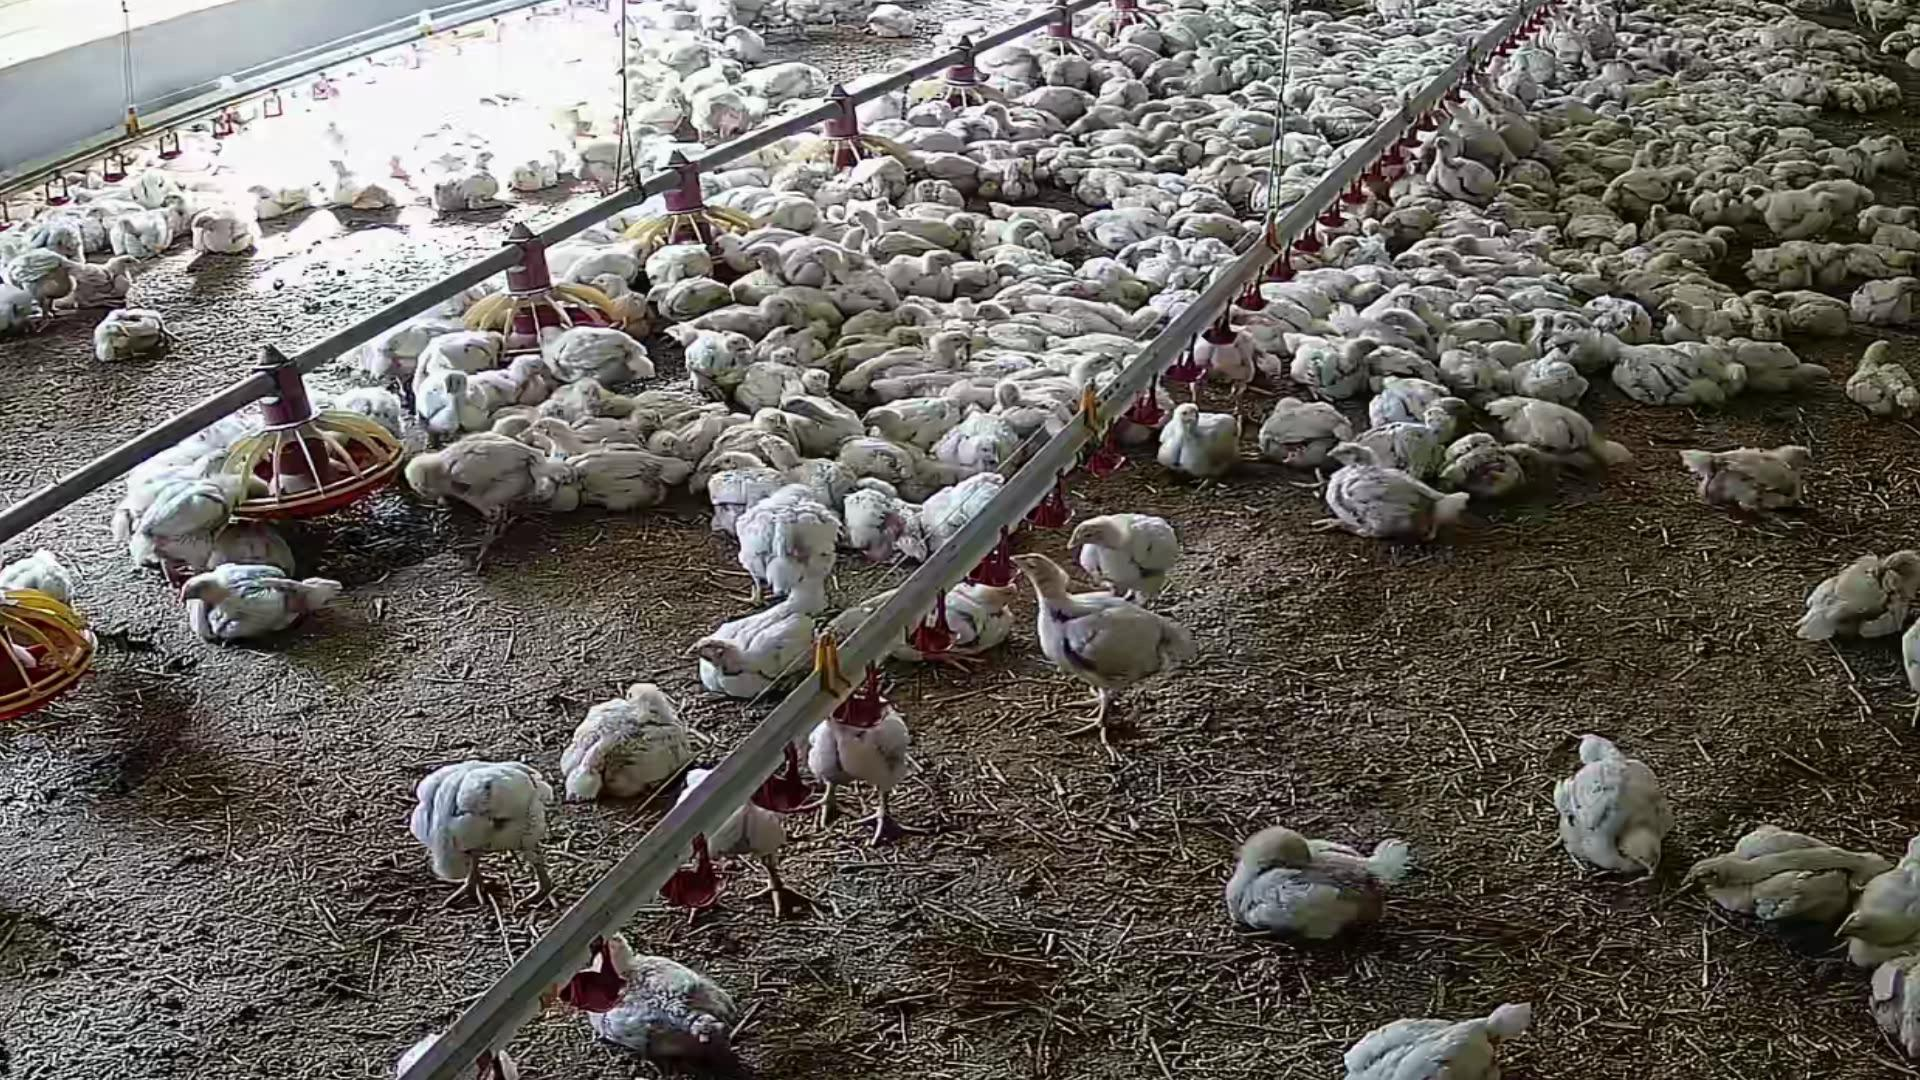poussin: (1001, 539, 1180, 767), (571, 910, 735, 1080), (1229, 823, 1415, 952), (678, 762, 811, 942), (1680, 825, 1886, 934), (798, 666, 928, 836), (411, 761, 555, 911), (1307, 442, 1469, 539), (840, 578, 1026, 662), (562, 682, 695, 799), (1556, 735, 1667, 874), (1340, 1000, 1531, 1080), (742, 480, 841, 624), (135, 479, 261, 585), (1490, 393, 1633, 484), (1796, 553, 1920, 642), (119, 456, 228, 556), (407, 439, 541, 521), (688, 615, 829, 691), (1844, 833, 1920, 968), (1062, 513, 1185, 595), (1683, 442, 1811, 517), (173, 582, 334, 641), (1597, 335, 1730, 402), (392, 1013, 522, 1080), (928, 469, 1019, 566), (1146, 396, 1240, 483), (534, 323, 665, 385), (1255, 402, 1356, 477), (841, 331, 975, 386), (1706, 335, 1825, 397), (753, 434, 853, 506), (566, 455, 695, 509), (0, 244, 71, 339), (314, 384, 402, 459), (1180, 324, 1266, 400), (211, 518, 295, 593), (1842, 338, 1920, 417), (1869, 945, 1920, 1060), (847, 476, 916, 560), (1352, 410, 1452, 468), (1441, 427, 1524, 497), (699, 406, 783, 475), (360, 314, 446, 381), (0, 543, 69, 626), (1742, 182, 1836, 241), (88, 306, 178, 367), (1288, 338, 1378, 397), (810, 247, 893, 309), (713, 451, 770, 541), (1443, 96, 1505, 178), (1429, 138, 1498, 211), (943, 410, 1018, 471), (858, 397, 963, 440), (732, 368, 840, 409), (90, 207, 177, 257), (1379, 369, 1455, 426), (1469, 83, 1528, 154), (1244, 291, 1332, 338), (1433, 339, 1510, 392), (464, 353, 542, 404), (757, 285, 845, 328), (421, 373, 488, 430), (327, 160, 396, 215), (1602, 167, 1695, 208), (844, 436, 924, 483), (1251, 280, 1344, 319), (691, 302, 806, 334), (1770, 289, 1846, 336), (650, 278, 732, 322), (851, 210, 931, 253), (534, 418, 640, 451), (666, 323, 760, 360), (421, 331, 508, 371), (1655, 295, 1734, 339), (1278, 277, 1400, 305), (894, 244, 952, 302), (71, 252, 137, 302), (692, 334, 746, 393), (1851, 277, 1920, 323), (117, 204, 174, 260), (1659, 223, 1735, 264), (589, 273, 647, 326), (1511, 360, 1588, 400), (1080, 96, 1174, 128), (1559, 193, 1622, 239), (1246, 167, 1311, 212), (735, 247, 786, 302), (1742, 248, 1813, 287), (1221, 314, 1299, 349), (487, 401, 567, 435), (560, 249, 650, 280), (886, 212, 975, 243), (1547, 326, 1619, 363), (1891, 615, 1920, 707), (750, 61, 816, 100), (1784, 240, 1844, 284), (1638, 204, 1702, 244), (583, 390, 688, 414), (786, 396, 872, 425), (191, 214, 252, 255), (1394, 290, 1460, 327), (629, 404, 731, 427), (833, 327, 920, 355), (1112, 142, 1183, 175), (1095, 127, 1188, 152), (868, 1, 923, 44), (645, 433, 725, 462), (953, 253, 1010, 294), (690, 91, 737, 140), (996, 210, 1079, 237), (1841, 245, 1920, 274), (1022, 87, 1091, 120), (976, 104, 1034, 142), (463, 149, 500, 208), (247, 179, 310, 214), (654, 247, 719, 280), (753, 199, 815, 233), (0, 278, 32, 344), (1141, 237, 1183, 286), (1134, 54, 1199, 86), (1567, 145, 1634, 175), (1590, 295, 1643, 334), (1316, 232, 1364, 274), (574, 153, 615, 202), (1477, 73, 1527, 112), (843, 306, 928, 328), (164, 194, 224, 225), (1858, 203, 1919, 235), (1436, 316, 1511, 342), (634, 96, 682, 136), (509, 158, 554, 199), (709, 236, 764, 269), (1109, 41, 1163, 74), (729, 25, 774, 65), (1685, 186, 1730, 225), (992, 282, 1087, 301), (545, 389, 615, 414), (1265, 138, 1331, 165), (898, 129, 967, 154), (988, 407, 1056, 433), (778, 0, 814, 47), (1548, 18, 1584, 66), (1178, 216, 1247, 240), (1182, 190, 1236, 219), (989, 326, 1055, 349), (986, 222, 1039, 251), (684, 65, 725, 102), (1120, 235, 1167, 266), (1077, 210, 1156, 228), (1499, 273, 1568, 294), (988, 47, 1035, 78), (1046, 339, 1145, 353), (1505, 290, 1577, 310), (1051, 55, 1089, 92), (1021, 129, 1073, 156), (1766, 105, 1832, 127), (49, 222, 86, 258), (1867, 136, 1904, 173), (1382, 311, 1437, 335), (1120, 193, 1175, 216), (1845, 148, 1880, 185), (1064, 356, 1109, 385), (980, 247, 1055, 264), (1081, 171, 1125, 200), (1553, 274, 1613, 295), (1017, 313, 1084, 331), (1335, 86, 1379, 113), (1615, 116, 1658, 145), (1630, 138, 1672, 167), (895, 178, 934, 210), (993, 384, 1068, 400), (1381, 211, 1433, 233), (1229, 91, 1282, 113), (1445, 302, 1499, 323), (1033, 140, 1073, 167), (703, 171, 774, 187), (1428, 248, 1476, 272), (1540, 90, 1611, 105), (1077, 257, 1131, 277), (911, 103, 956, 127), (1870, 223, 1920, 244), (1021, 261, 1081, 278), (1735, 164, 1779, 187), (952, 117, 997, 140), (1522, 310, 1556, 339), (1756, 146, 1813, 164), (1068, 160, 1149, 171), (969, 302, 1011, 323), (760, 347, 804, 367), (1482, 200, 1522, 223), (1271, 252, 1323, 269), (1391, 255, 1439, 273), (1453, 277, 1486, 302), (1002, 161, 1022, 202), (1590, 99, 1619, 127), (824, 0, 847, 36), (939, 178, 960, 215), (1129, 112, 1178, 128), (1201, 29, 1233, 53), (1215, 156, 1247, 178), (989, 260, 1023, 281), (1520, 240, 1556, 260), (727, 194, 778, 207), (1096, 65, 1130, 83), (1667, 141, 1691, 165), (1379, 95, 1404, 117), (1212, 55, 1242, 74), (1505, 185, 1538, 200), (1237, 128, 1258, 152), (1455, 233, 1484, 251), (1257, 42, 1286, 59), (1572, 131, 1606, 145), (872, 194, 897, 214), (1557, 262, 1594, 276), (775, 103, 808, 117), (1543, 224, 1567, 244), (1178, 107, 1208, 121), (1553, 315, 1586, 328), (1159, 74, 1188, 88), (1374, 69, 1400, 84), (924, 303, 948, 320), (715, 45, 745, 58), (1526, 196, 1556, 210), (977, 181, 997, 200), (1551, 248, 1578, 261), (901, 294, 932, 305), (1195, 131, 1226, 141), (1361, 218, 1381, 233), (1345, 71, 1369, 84), (1341, 53, 1369, 63), (1580, 248, 1600, 262), (1408, 243, 1451, 249), (16, 222, 44, 231), (1418, 59, 1443, 69), (1730, 79, 1753, 87), (1691, 142, 1706, 153)
